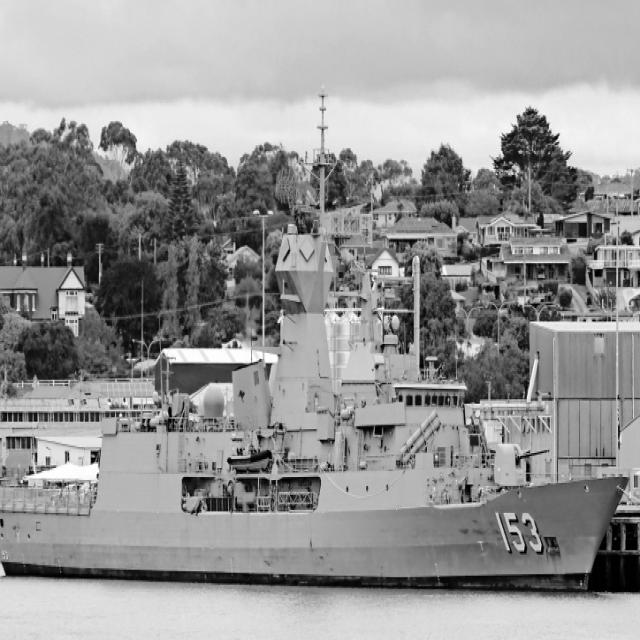Fragata: (1, 107, 632, 587)
